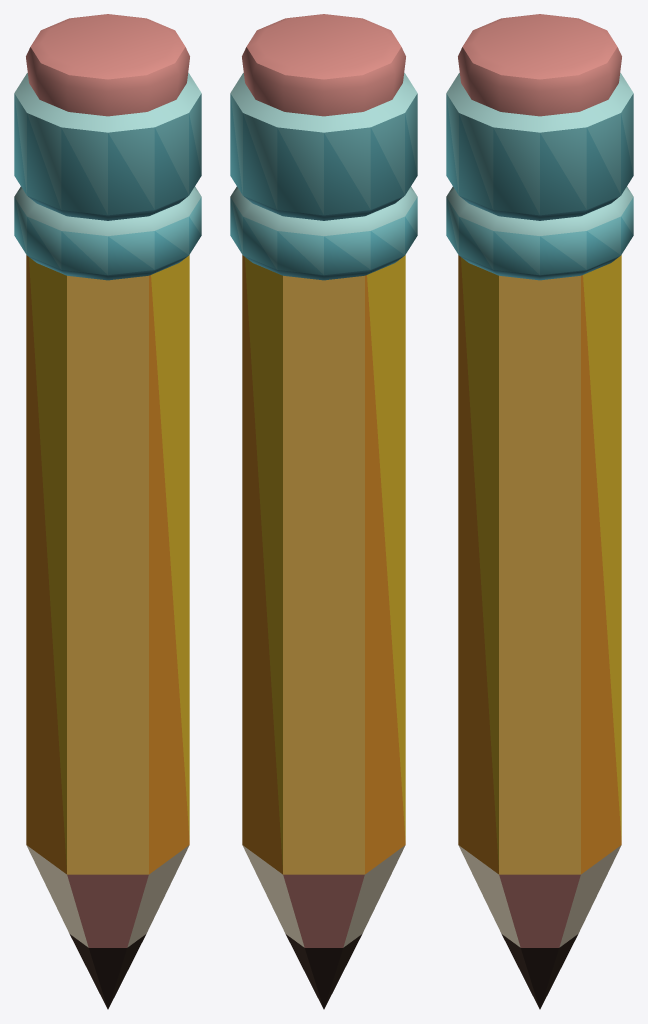
Rendered from itch_kaykit_rpg_tools_pencil_b_long.glb.
3 views of the same model, side by side, from view 1: azimuth 30°, elevation 25°; view 2: azimuth 150°, elevation 25°; view 3: azimuth 270°, elevation 25° (orthographic).
Parts seen in each view (by area): view 1: pencil_B_long; view 2: pencil_B_long; view 3: pencil_B_long.
Boxes of the visible parts, x1,y1,x2,y2 form: pencil_B_long: (14,14,201,1009); pencil_B_long: (230,14,417,1009); pencil_B_long: (446,14,633,1009).
Size of the model in its own units: 0.1579 by 0.9 by 0.1579.
